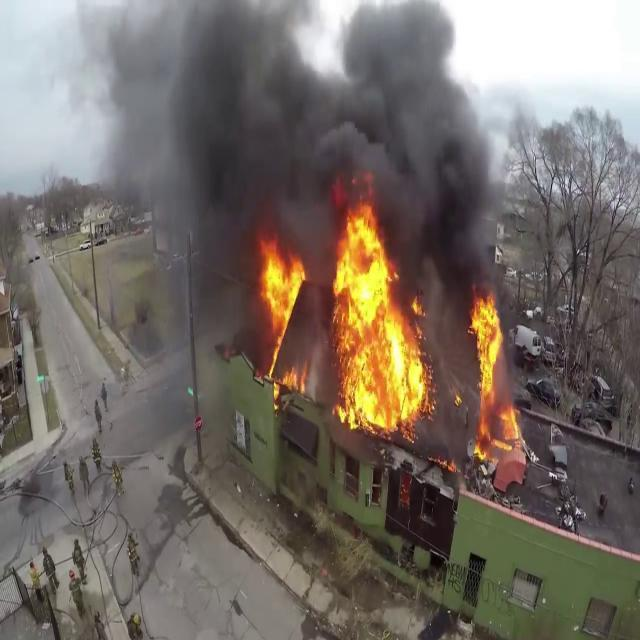Fire: (328, 202, 432, 434), (254, 235, 308, 392), (468, 288, 506, 394)
Smoke: (92, 0, 510, 281)
